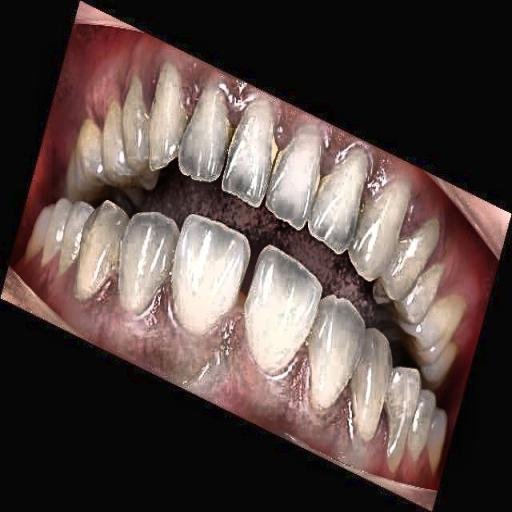Healthy: (52, 40, 465, 417)
